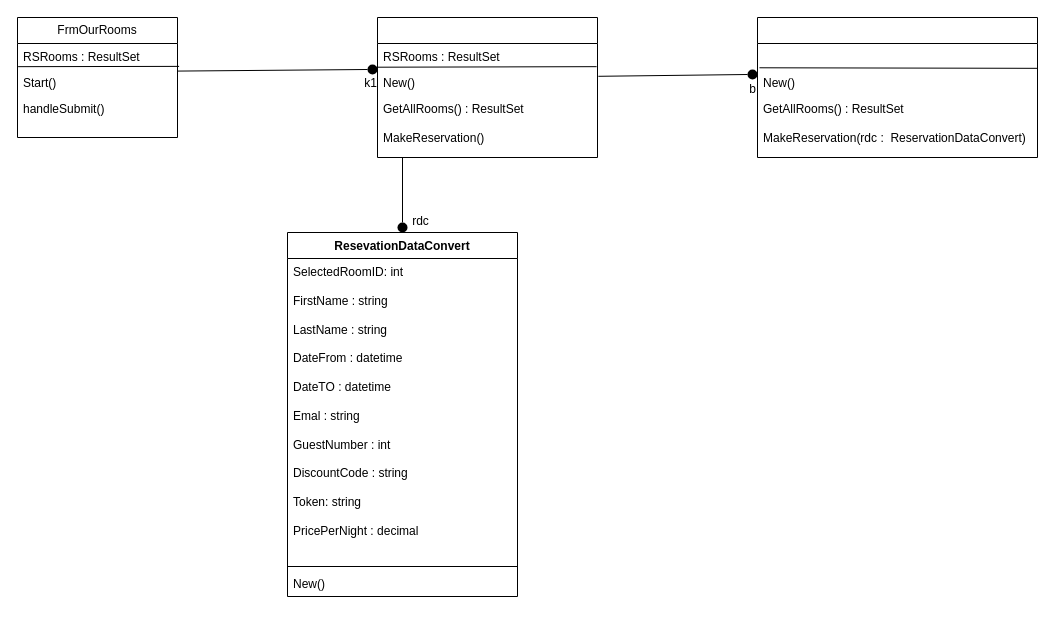
Some shapes in this 1056 by 617 pixel diagram are drawn without their labels. Each missing label, with the box of its shape:
Broker: (756, 16, 1038, 158)
RoomsAndReservationController: (376, 16, 598, 158)
